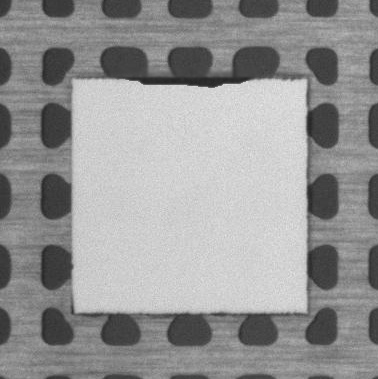DIE_BROKEN: (122, 74, 255, 90)
